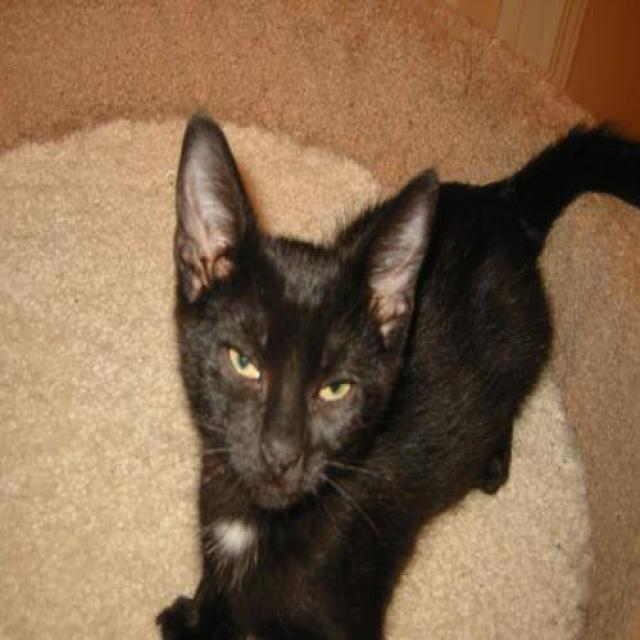cat: (152, 107, 638, 638)
